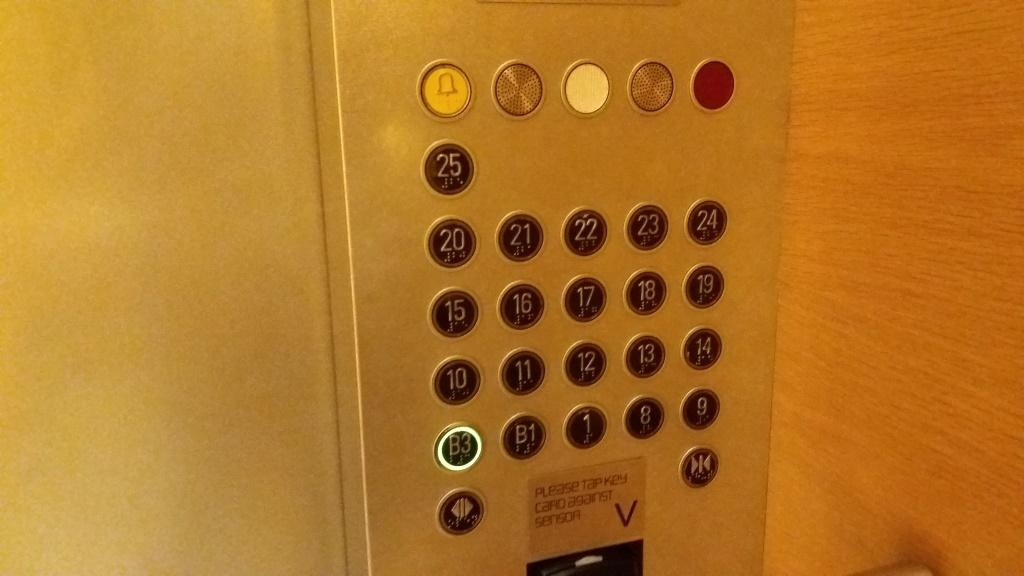1: (563, 402, 610, 450)
10: (431, 352, 485, 408)
11: (495, 344, 549, 400)
12: (558, 336, 610, 390)
13: (621, 330, 669, 381)
14: (680, 323, 725, 372)
15: (426, 283, 482, 339)
16: (495, 279, 547, 334)
17: (562, 272, 610, 326)
18: (621, 266, 669, 319)
19: (681, 260, 727, 311)
20: (423, 213, 481, 271)
21: (493, 208, 546, 265)
22: (559, 204, 612, 261)
23: (622, 200, 671, 255)
24: (682, 195, 730, 247)
25: (421, 135, 479, 198)
8: (621, 393, 668, 441)
9: (677, 384, 724, 432)
B1: (498, 411, 549, 463)
B3: (432, 420, 484, 475)
alarm: (415, 57, 477, 121)
close: (678, 445, 722, 491)
empty: (558, 58, 612, 118), (687, 58, 736, 112)
open: (433, 485, 488, 539)
speaker: (486, 55, 547, 122), (623, 55, 676, 118)
